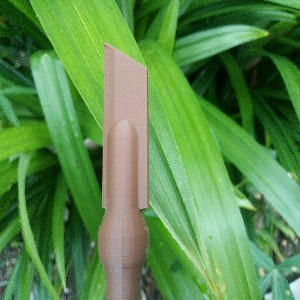cutter: (96, 41, 149, 300)
